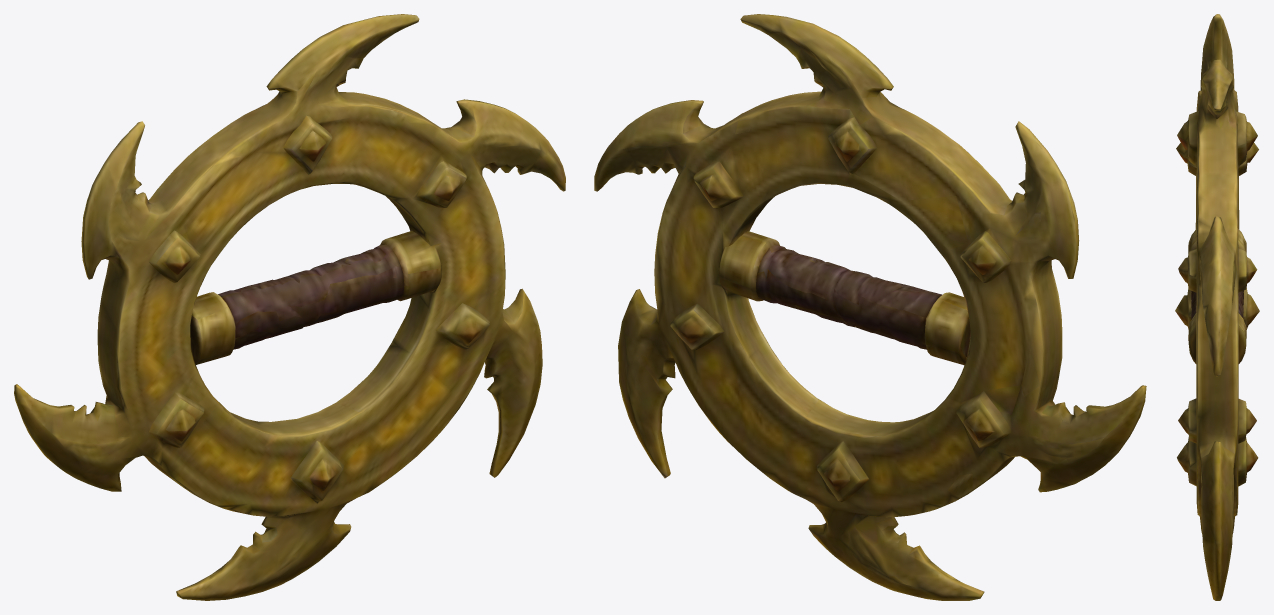
File: disc_weapon.glb
The picture shows the model from 3 angles, left to right: view 1: azimuth 30°, elevation 25°; view 2: azimuth 150°, elevation 25°; view 3: azimuth 270°, elevation 25°; orthographic projection. The views are drawn at different scales.
Bounding box in the file's own units: 1 × 0.9519 × 0.1402.
Materials: 1 (1 with a texture image).
